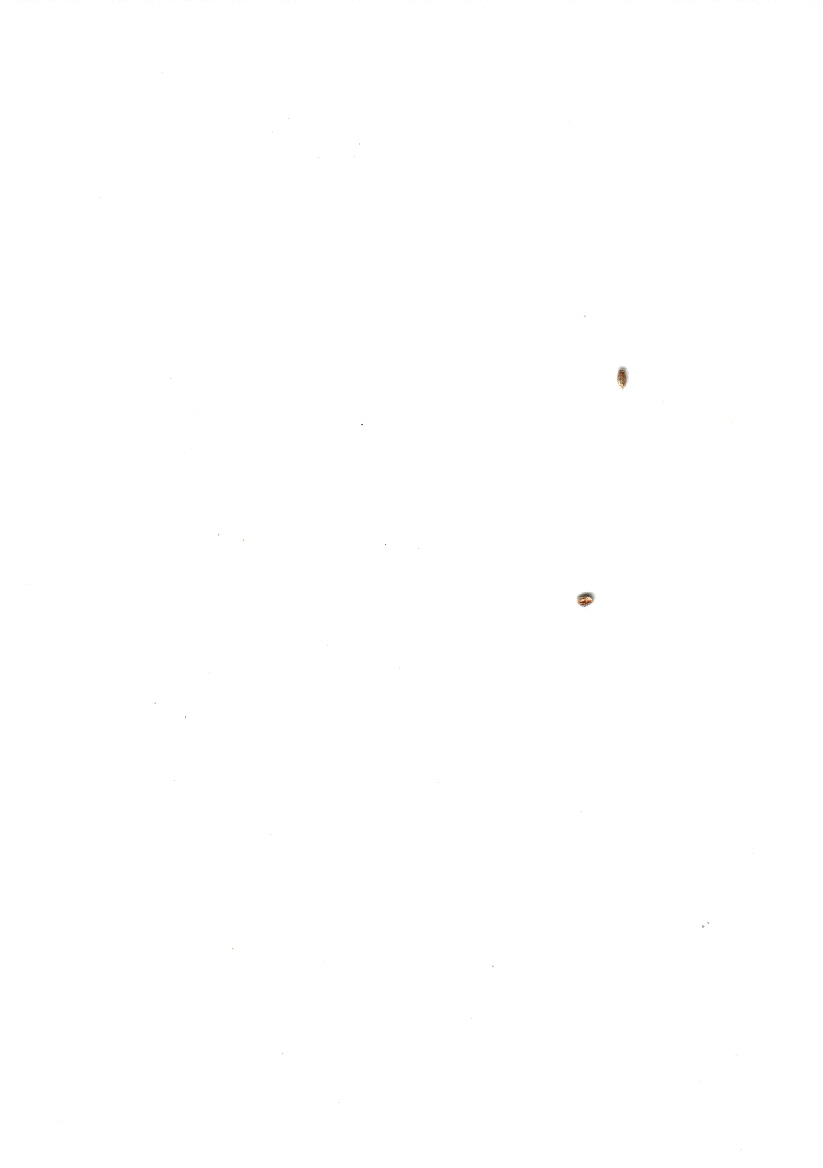grains: (605, 358, 637, 403), (570, 579, 605, 620)
